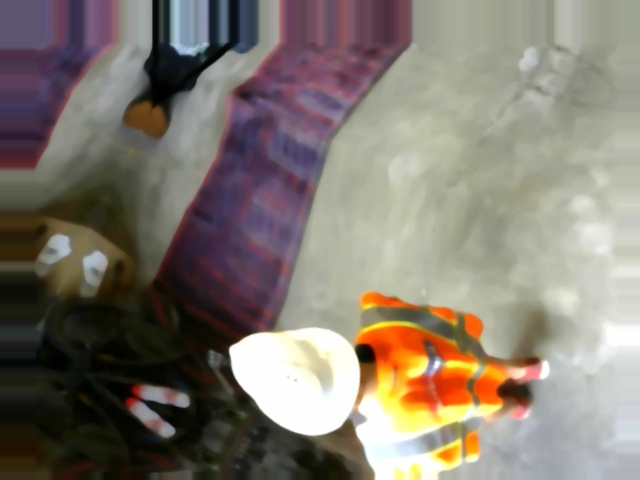three: (268, 354, 328, 408)
